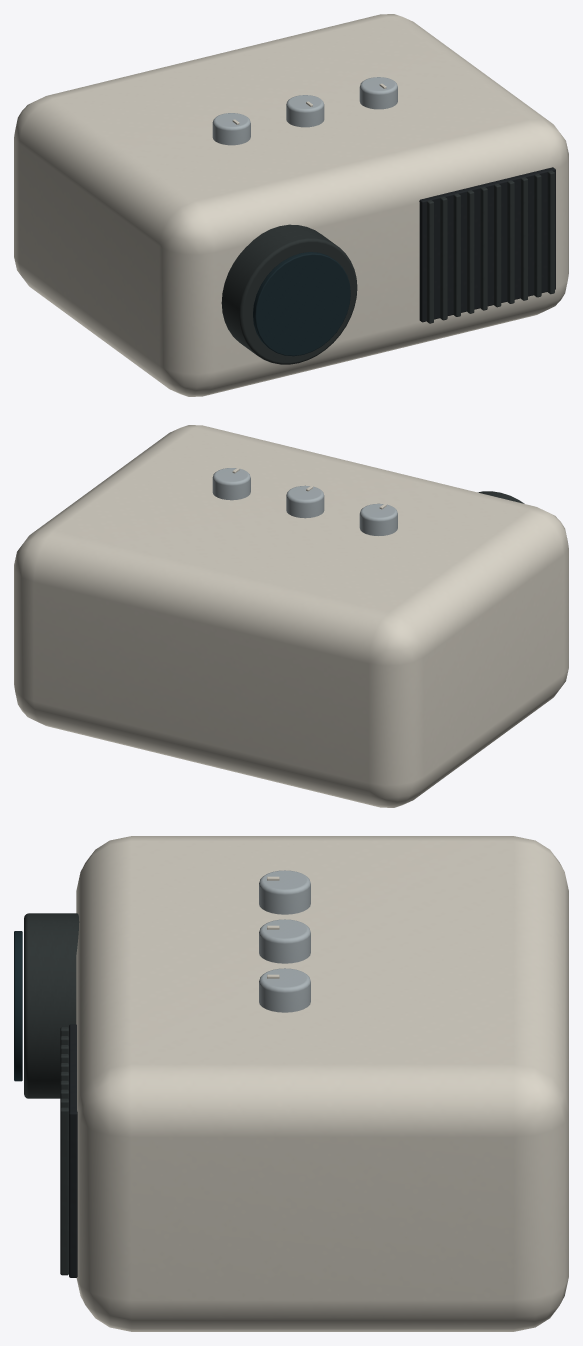
The model's file is projector.glb.
The picture shows the model from 3 angles, top to bottom: view 1: azimuth 30°, elevation 25°; view 2: azimuth 150°, elevation 25°; view 3: azimuth 270°, elevation 25°; orthographic projection. The views are drawn at different scales.
Parts seen in each view (by area): view 1: Projector enclosure, Dark grille backing, Projector glass, Projector optical barrel, Top rotary control.002, Top rotary control.001, Top rotary control, Grille rib.004, Grille rib.002, Grille rib.003, Grille rib.006, Grille rib.007 (+5 smaller); view 2: Projector enclosure, Top rotary control, Top rotary control.002, Top rotary control.001; view 3: Projector enclosure, Projector optical barrel, Dark grille backing, Top rotary control, Top rotary control.001, Top rotary control.002, Grille rib.009, Projector glass.
Part boxes in pixels (bbox=[...]): Projector enclosure: bbox=[14, 14, 568, 396]; Dark grille backing: bbox=[419, 167, 555, 322]; Projector glass: bbox=[253, 252, 350, 356]; Projector optical barrel: bbox=[221, 224, 357, 364]; Top rotary control.002: bbox=[359, 77, 397, 109]; Top rotary control.001: bbox=[286, 95, 324, 127]; Top rotary control: bbox=[212, 113, 250, 145]; Grille rib.004: bbox=[480, 187, 487, 310]; Grille rib.002: bbox=[453, 193, 460, 316]; Grille rib.003: bbox=[467, 190, 474, 313]; Grille rib.006: bbox=[507, 180, 514, 303]; Grille rib.007: bbox=[520, 177, 527, 300]; Projector enclosure: bbox=[14, 425, 568, 807]; Top rotary control: bbox=[359, 503, 397, 535]; Top rotary control.002: bbox=[212, 468, 250, 500]; Top rotary control.001: bbox=[286, 485, 324, 518]; Projector enclosure: bbox=[76, 836, 568, 1331]; Projector optical barrel: bbox=[24, 913, 79, 1098]; Dark grille backing: bbox=[69, 1024, 77, 1277]; Top rotary control: bbox=[259, 870, 310, 914]; Top rotary control.001: bbox=[259, 919, 310, 963]; Top rotary control.002: bbox=[259, 968, 310, 1012]; Grille rib.009: bbox=[60, 1107, 68, 1275]; Projector glass: bbox=[14, 931, 22, 1081].
Bounding box in the file's own units: 0.22 × 0.111 × 0.1915.
Materials: 6 (6 with a texture image).
